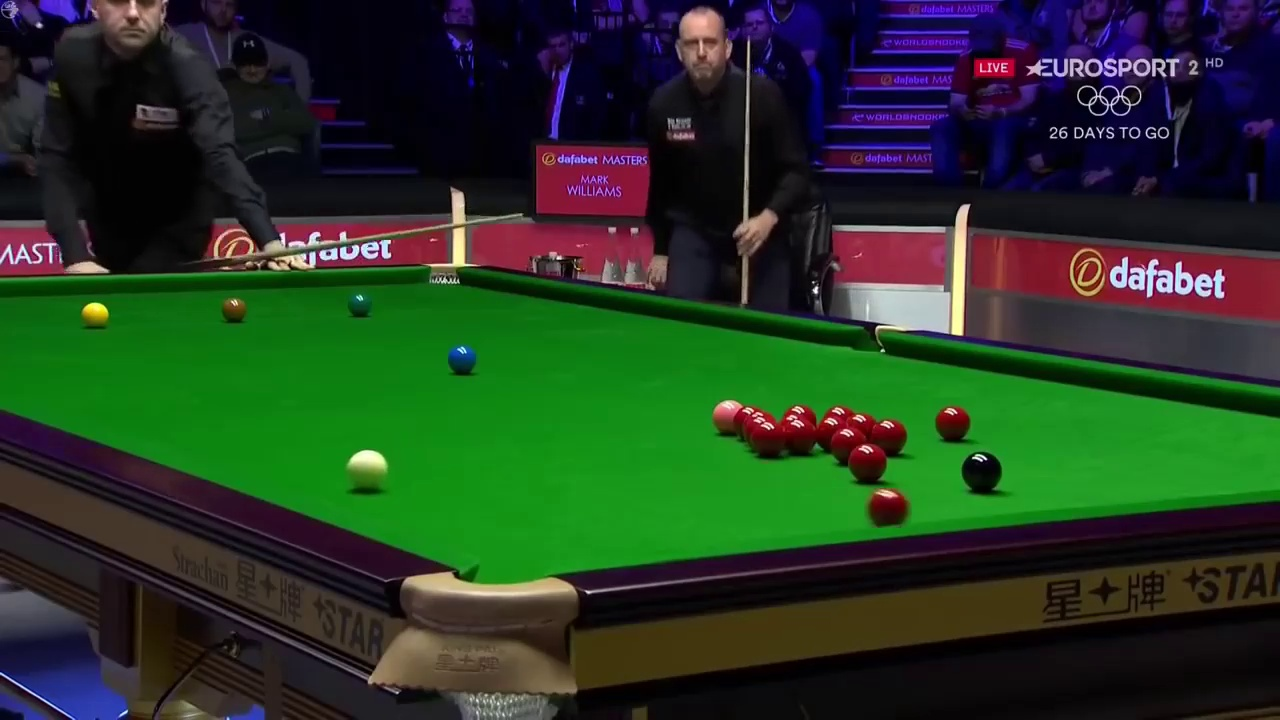black: (961, 453, 1000, 493)
blue: (449, 345, 476, 373)
brown: (220, 293, 247, 319)
green: (348, 291, 372, 317)
red: (867, 488, 909, 524), (850, 441, 885, 482), (937, 404, 970, 441), (784, 420, 814, 453), (750, 433, 783, 457)
white: (347, 451, 389, 492)
yellow: (77, 299, 112, 328)
